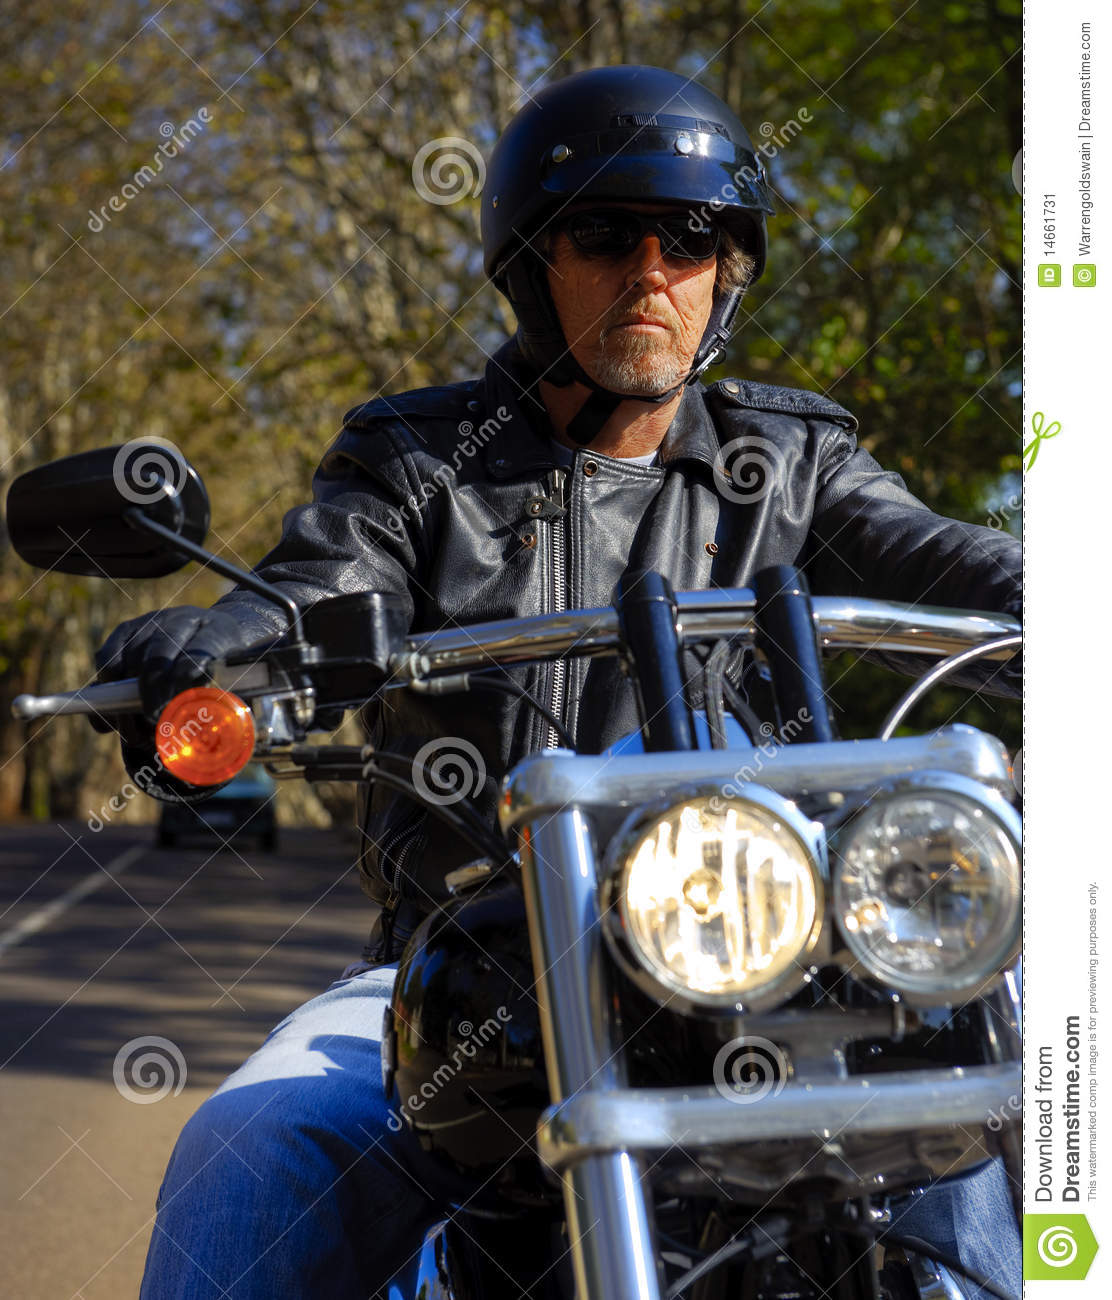helmet: (484, 92, 784, 265)
